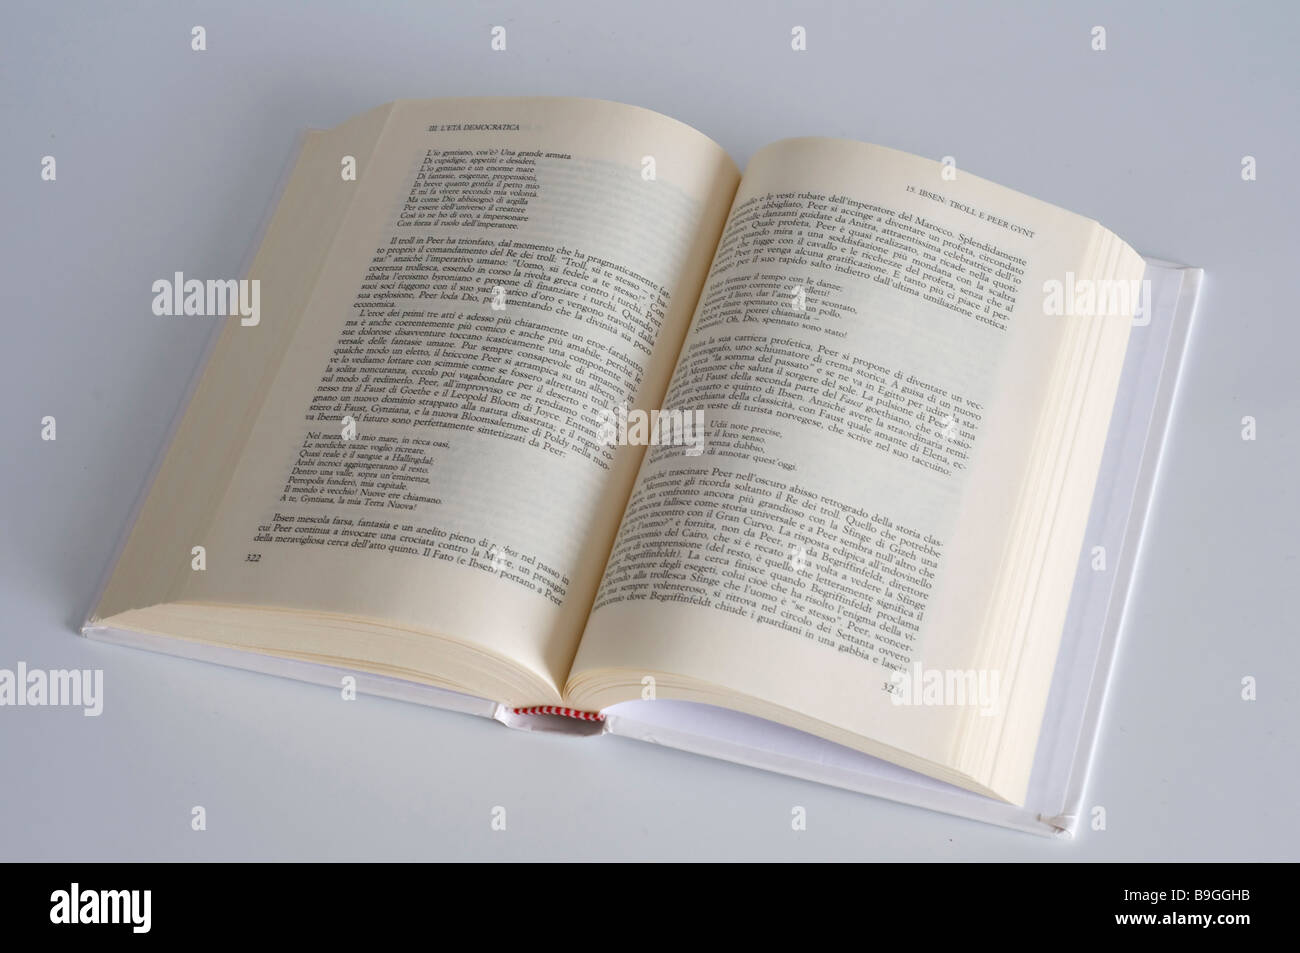book: (147, 46, 1176, 854)
